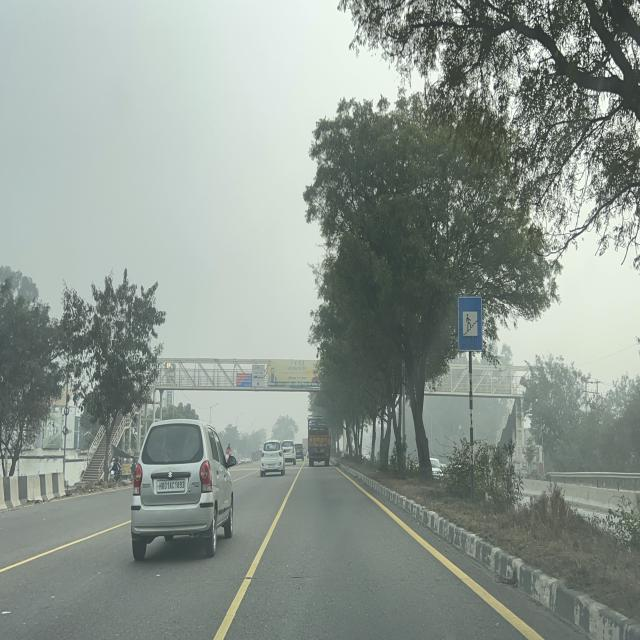INFORMATION: (458, 296, 483, 352)
